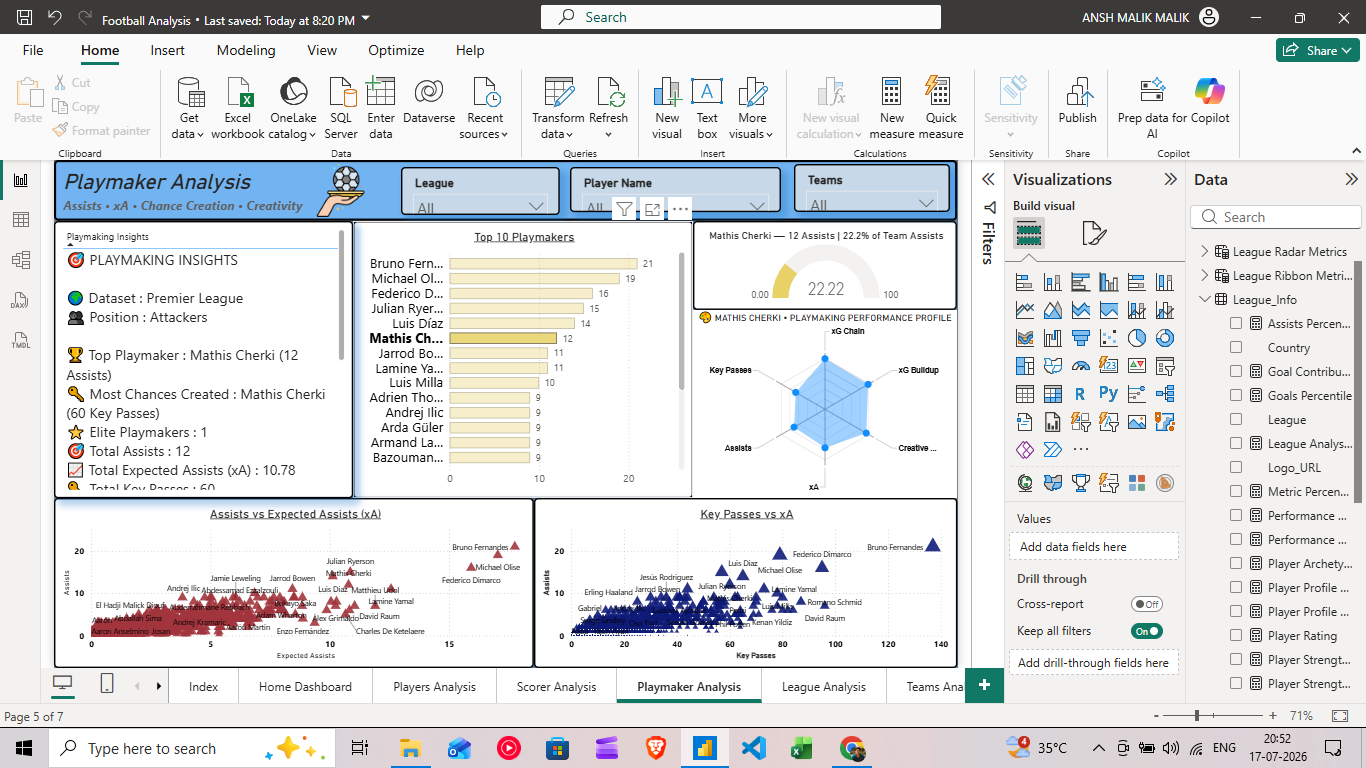

This screenshot's page, from the dashboard's own definition file:
{"tool":"powerbi","page":{"name":"Playmaker Analysis","canvas":[1280,720],"ordinal":4},"visuals":[{"type":"textbox","title":"Playmaker Analysis ","box":[0,0,1279.8,86.5],"z":0},{"type":"image","box":[347,5.8,118.1,74.9],"z":1000},{"type":"slicer","title":"Leagues","fields":{"Values":["Table2.League"]},"box":[491.8,9.9,225.4,68],"z":2000},{"type":"slicer","fields":{"Values":["Table2.player_name"]},"box":[731.3,9.9,299.1,63.8],"z":3000},{"type":"barChart","title":"Top 10 Playmakers","fields":{"Category":["Table2.player_name"],"Y":["Sum(Table2.assists)"]},"box":[423.8,86.5,481.9,392.6],"z":4000},{"type":"scatterChart","title":"Assists vs Expected Assists (xA)","fields":{"Category":["Table2.player_name"],"X":["Sum(Table2.xA)"],"Y":["Sum(Table2.assists)"]},"box":[0,479.1,680.3,240.9],"z":5000},{"type":"tableEx","fields":{"Values":["Table2.Playmaking Insights"]},"box":[0,86.5,423.8,392.6],"z":6000},{"type":"scatterChart","title":"Key Passes vs xA","fields":{"Category":["Table2.player_name"],"Size":["Sum(Table2.assists)"],"X":["Sum(Table2.key_passes)"],"Y":["Sum(Table2.assists)"]},"box":[680.3,479.1,599.5,240.9],"z":7000},{"type":"gauge","fields":{"MaxValue":["Goal Contribution.Assist Gauge Maximum"],"Y":["Goal Contribution.Player Assist Share %"]},"box":[905.7,86.5,374.2,126.1],"z":8000},{"type":"slicer","fields":{"Values":["Table2.Clean Team"]},"box":[1048.8,5.7,221.1,68],"z":9000},{"type":"RadarChart1446119667547","fields":{"Category":["Playmaker Radar Metrics.Metric"],"Y":["Table2.Playmaker Radar Score"]},"box":[905.7,212.6,374.2,266.5],"z":10000}]}

Visuals, with their boxes on the page's 1280x720 design canvas (x1, y1, x2, y2). These are canvas units, not pixel positions in the 1366x768 screenshot, which may show the page scaled, cropped or inside an application window:
"Playmaker Analysis " textbox: {"left": 0, "top": 0, "right": 1280, "bottom": 86}
image: {"left": 347, "top": 6, "right": 465, "bottom": 81}
"Leagues" slicer: {"left": 492, "top": 10, "right": 717, "bottom": 78}
slicer - Table2.player_name: {"left": 731, "top": 10, "right": 1030, "bottom": 74}
"Top 10 Playmakers" barChart: {"left": 424, "top": 86, "right": 906, "bottom": 479}
"Assists vs Expected Assists (xA)" scatterChart: {"left": 0, "top": 479, "right": 680, "bottom": 720}
tableEx - Table2.Playmaking Insights: {"left": 0, "top": 86, "right": 424, "bottom": 479}
"Key Passes vs xA" scatterChart: {"left": 680, "top": 479, "right": 1280, "bottom": 720}
gauge - Goal Contribution.Assist Gauge Maximum x Goal Contribution.Player Assist Share %: {"left": 906, "top": 86, "right": 1280, "bottom": 213}
slicer - Table2.Clean Team: {"left": 1049, "top": 6, "right": 1270, "bottom": 74}
RadarChart1446119667547 - Playmaker Radar Metrics.Metric x Table2.Playmaker Radar Score: {"left": 906, "top": 213, "right": 1280, "bottom": 479}
